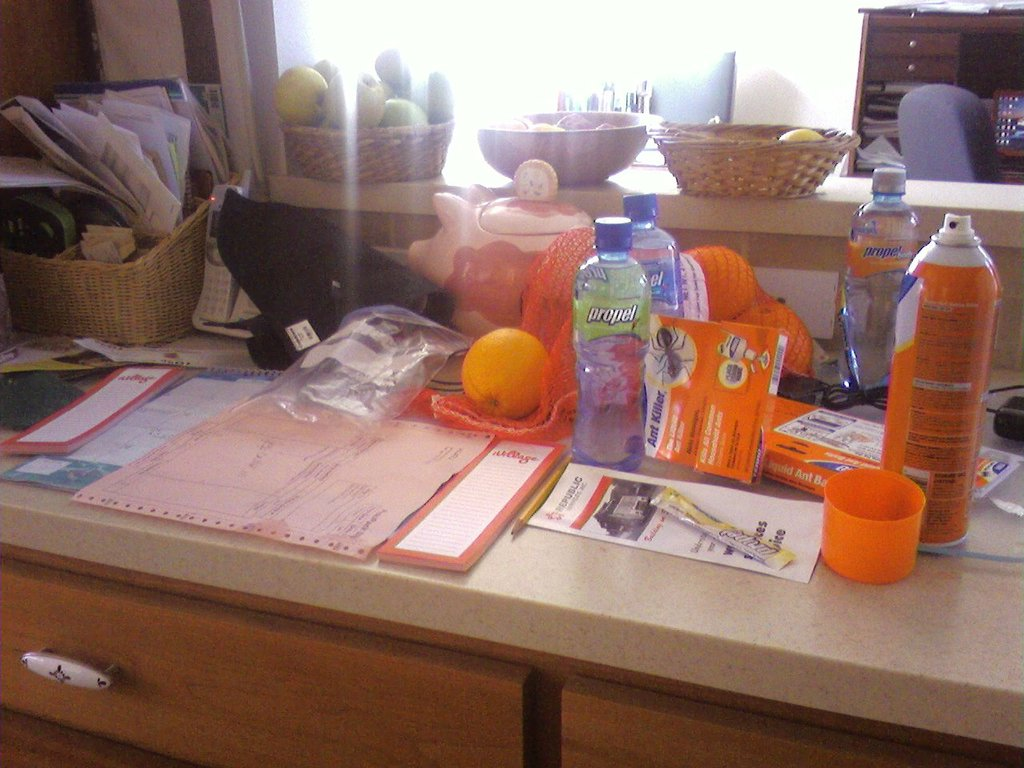Ripe: (461, 326, 550, 422)
